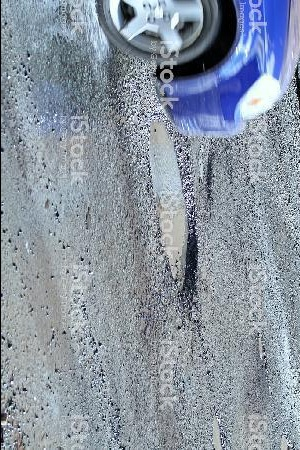pothole: (143, 112, 200, 309), (210, 412, 225, 449)
